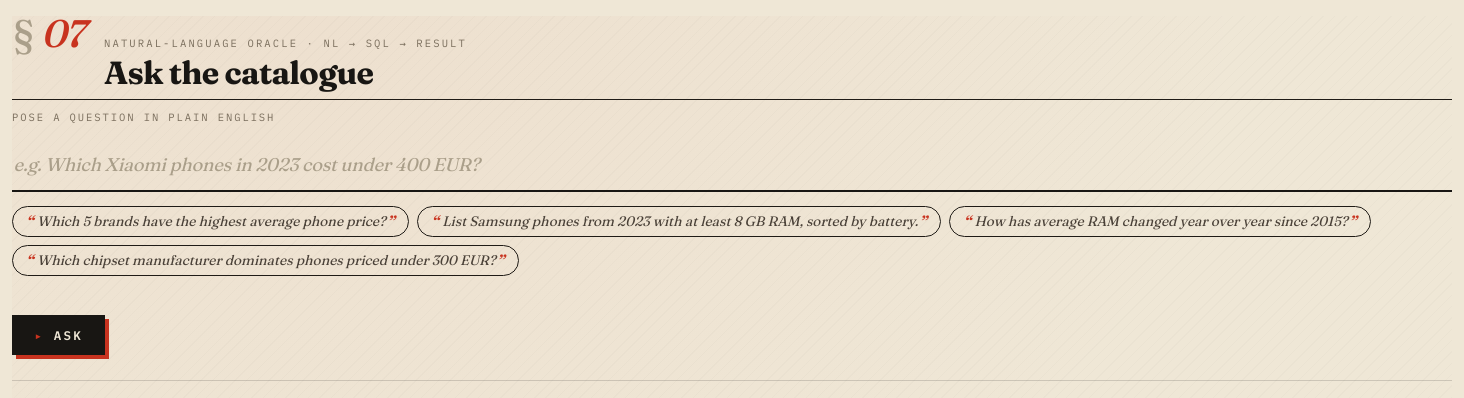
Test: Ask suggestions › clicking a suggestion populates the input
Click the button "Which 5 brands have the highest average phone price?" at (211, 222), box [12, 206, 409, 237]
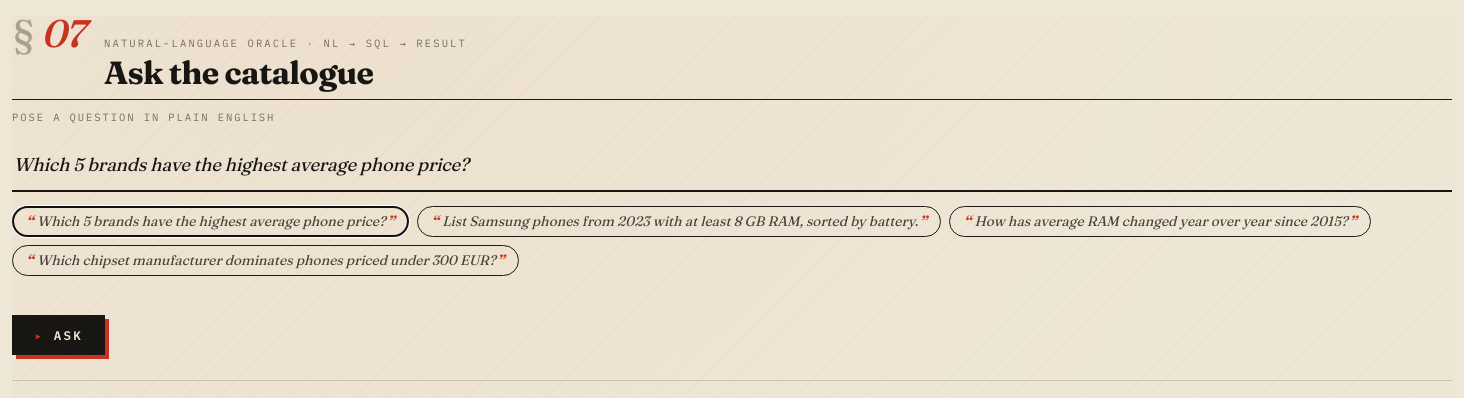
Result: the field with placeholder "e.g. Which Xiaomi phones in 2023 cost under 400 EUR?" holds "Which 5 brands have the highest average phone price?" at [12, 140, 1452, 192]
